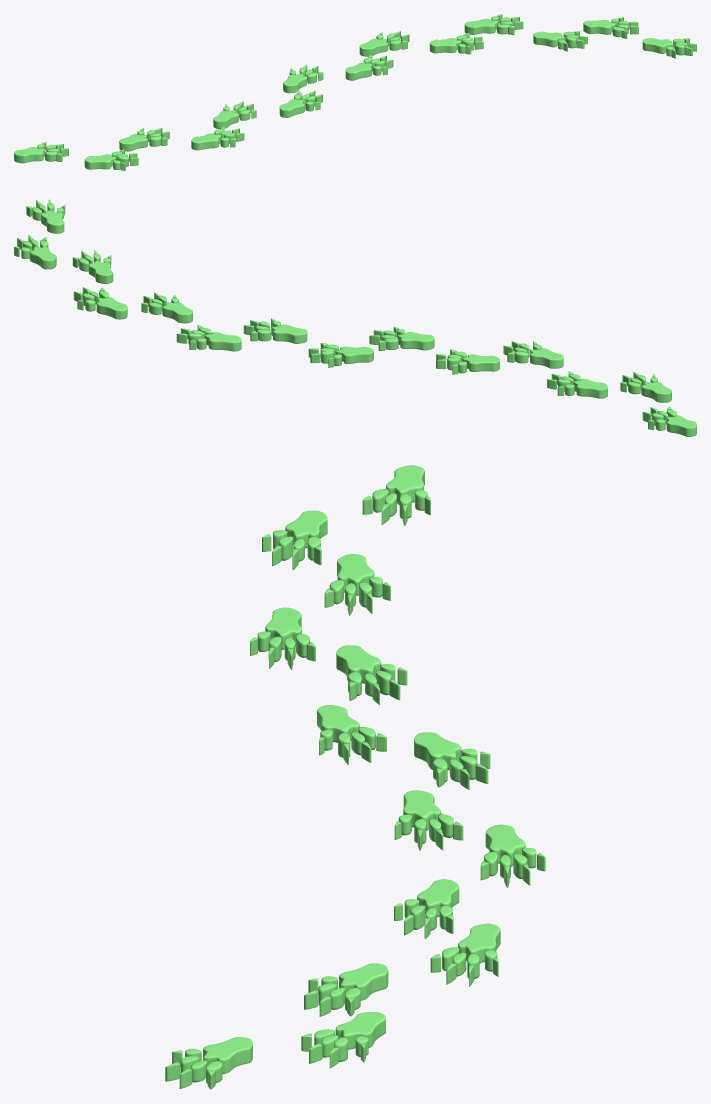
The model's file is Huellas.fbx.
The picture shows the model from 3 angles, top to bottom: view 1: azimuth 30°, elevation 25°; view 2: azimuth 150°, elevation 25°; view 3: azimuth 270°, elevation 25°; orthographic projection. The views are drawn at different scales.
Visible parts, largest first — view 1: Huellas; view 2: Huellas; view 3: Huellas.
Boxes of the visible parts, left/top/right/bottom form: Huellas: left=14, top=14, right=696, bottom=170; Huellas: left=14, top=199, right=696, bottom=436; Huellas: left=165, top=465, right=545, bottom=1089.
Bounding box in the file's own units: 13.09 × 0.1784 × 3.45.
